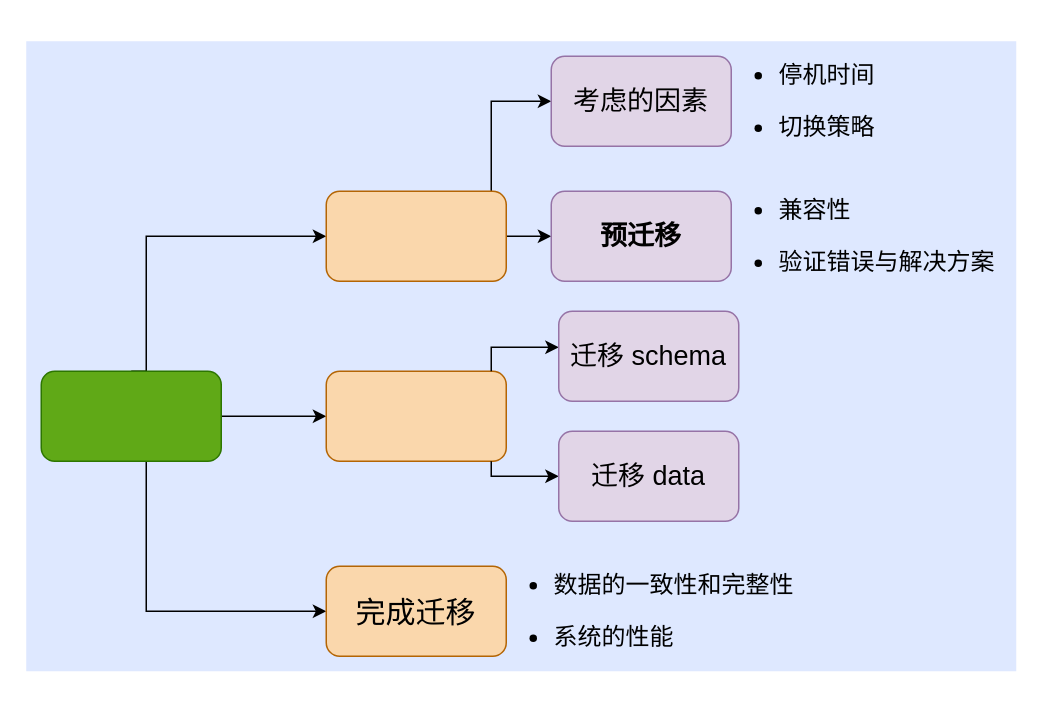
Image size: 1041x701. Some labels were removed from this diagram. Here are the shapes that lost their labels. From the top down, the centre of each, then its label:
At (415,235): "迁移计划".
At (130,415): "数据迁移".
At (415,415): "实施迁移".
